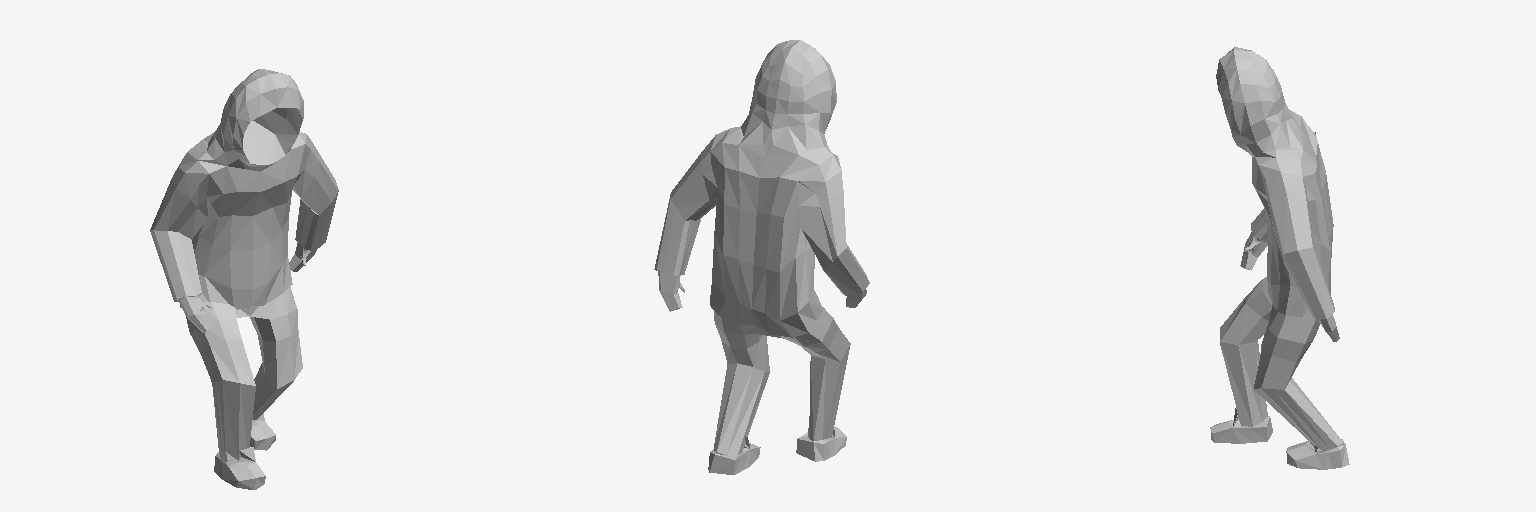
Rendered from Shadowmanv_000046.obj.
3 renders of one model, left to right at view 1: azimuth 30°, elevation 25°; view 2: azimuth 150°, elevation 25°; view 3: azimuth 270°, elevation 25°, orthographic.
Visible parts, largest first — view 1: Cube.000; view 2: Cube.000; view 3: Cube.000.
Boxes of the visible parts, x1,y1,x2,y2 form: Cube.000: [150, 69, 338, 489]; Cube.000: [654, 40, 869, 474]; Cube.000: [1210, 47, 1349, 469].
Size of the model in its own units: 5.16 by 10.98 by 3.44.